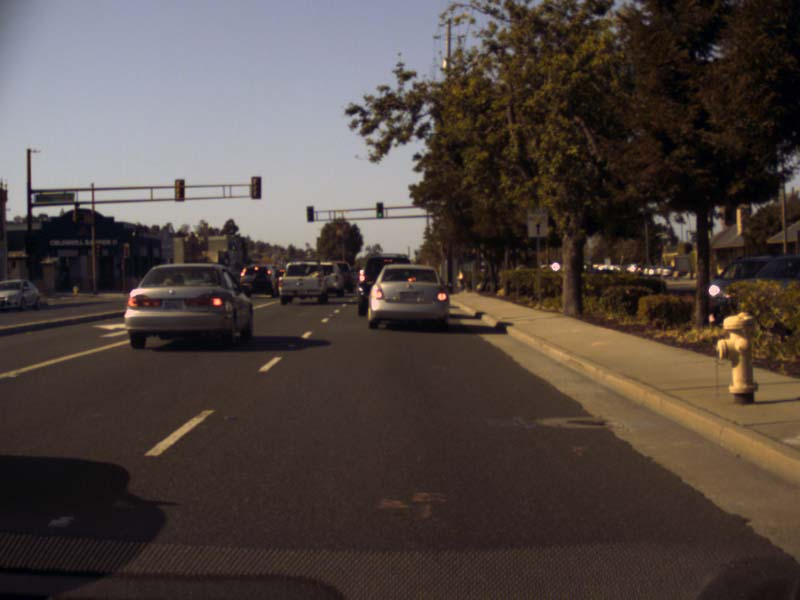Green: (376, 202, 382, 218)
